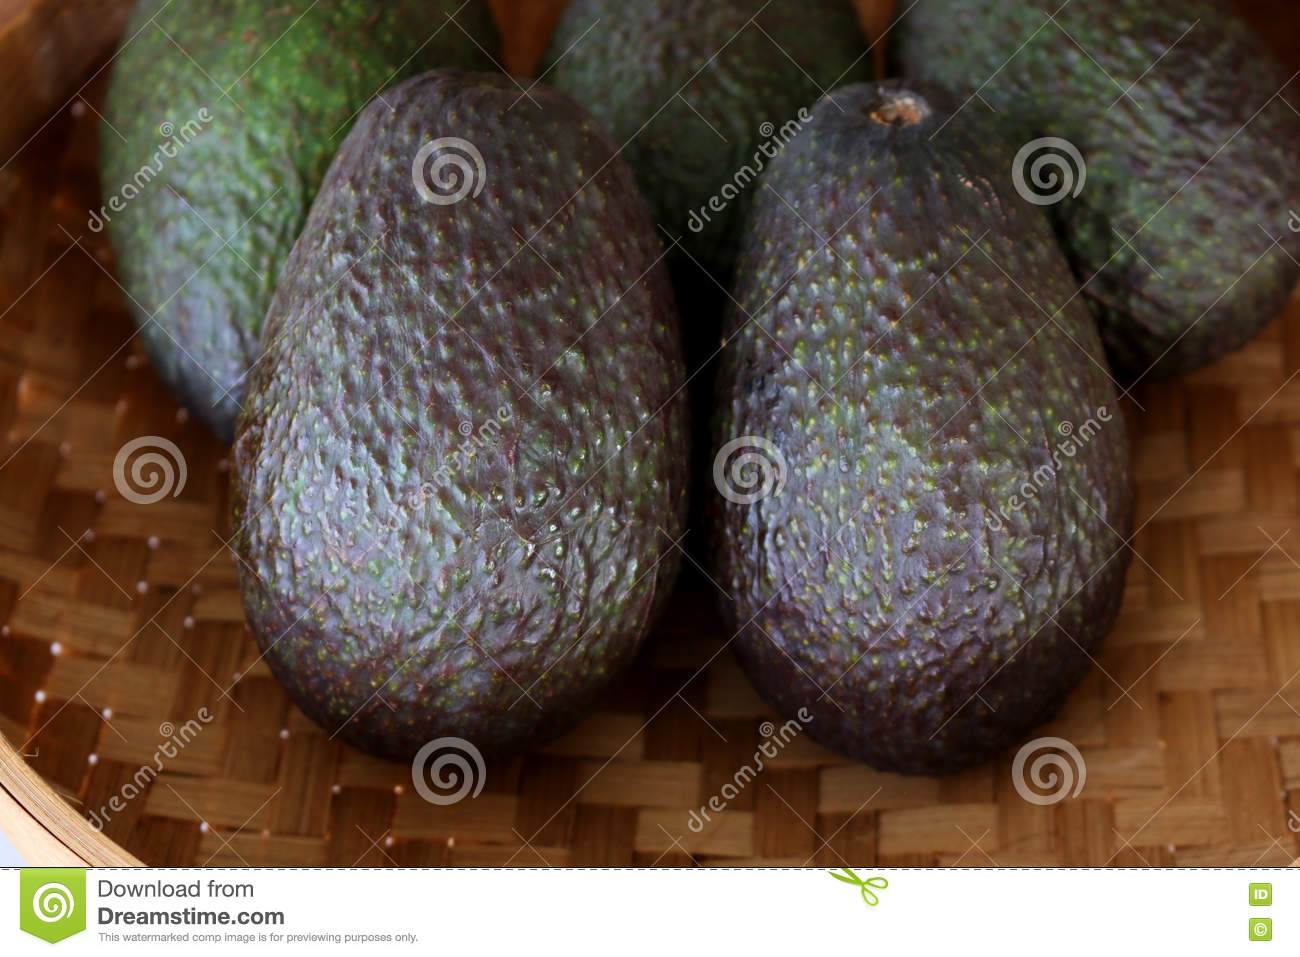fit_avocado: (230, 61, 705, 782), (714, 61, 1159, 823)
